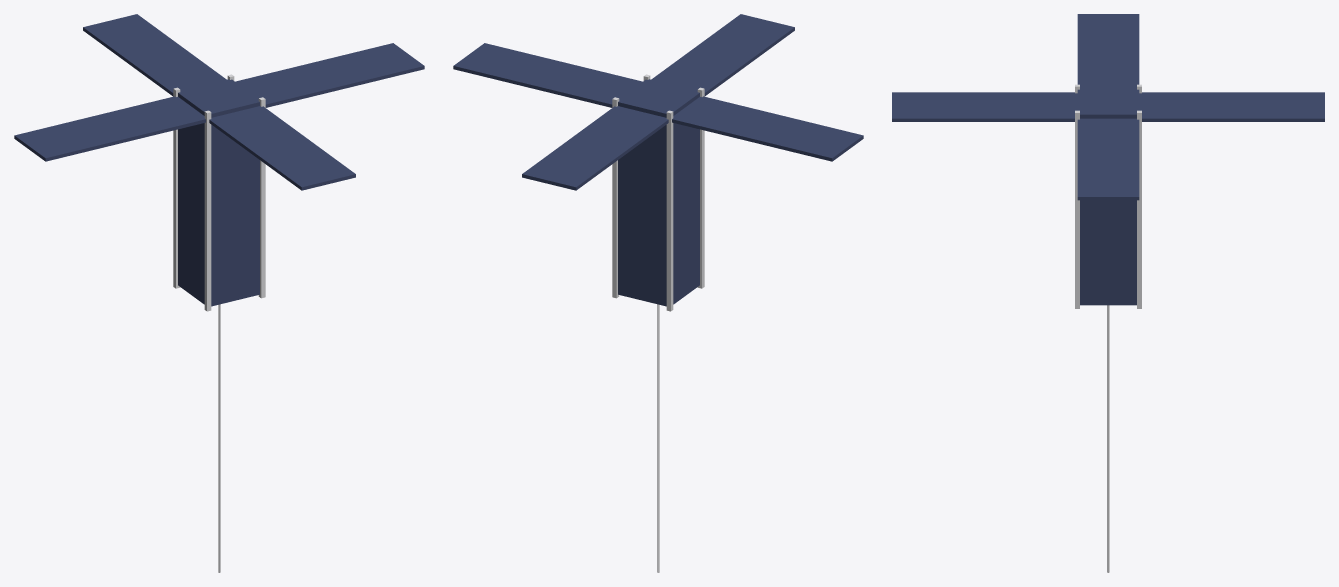
Rendered from cubesat.glb.
3 renders of one model, left to right at view 1: azimuth 30°, elevation 25°; view 2: azimuth 150°, elevation 25°; view 3: azimuth 270°, elevation 25°, orthographic.
Parts seen in each view (by area): view 1: cubesat; view 2: cubesat; view 3: cubesat.
Boxes of the visible parts, x1,y1,x2,y2 form: cubesat: [14, 14, 424, 572]; cubesat: [453, 14, 863, 572]; cubesat: [892, 14, 1324, 572].
Size of the model in its own units: 1.66 by 2 by 1.66.
